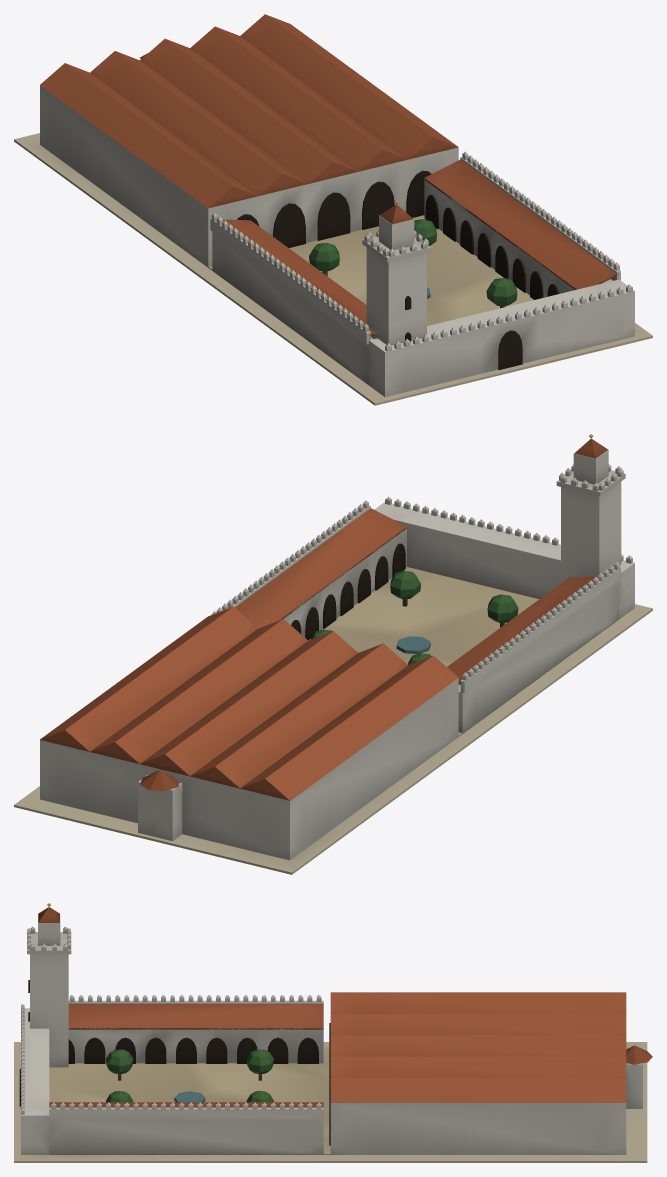
The model's file is se-mosque.glb.
3 renders of one model, top to bottom at view 1: azimuth 30°, elevation 25°; view 2: azimuth 150°, elevation 25°; view 3: azimuth 270°, elevation 25°, orthographic. The views are drawn at different scales.
Parts seen in each view (by area): view 1: p1_hall, p0_ground, p2_minaret; view 2: p1_hall, p0_ground, p2_minaret; view 3: p1_hall, p0_ground, p2_minaret.
Boxes of the visible parts, bbox=[...] form: p1_hall: bbox=[40, 14, 634, 396]; p0_ground: bbox=[14, 133, 652, 405]; p2_minaret: bbox=[362, 200, 431, 345]; p1_hall: bbox=[40, 496, 634, 860]; p0_ground: bbox=[14, 604, 652, 874]; p2_minaret: bbox=[556, 434, 625, 582]; p1_hall: bbox=[19, 992, 652, 1154]; p0_ground: bbox=[14, 1042, 647, 1162]; p2_minaret: bbox=[27, 903, 71, 1067].
Bounding box in the file's own units: 40 × 24.9 × 90.8.
